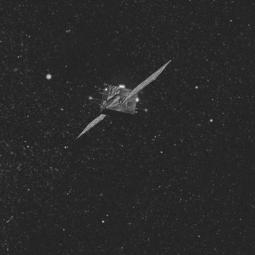smart_1: (70, 61, 178, 143)
